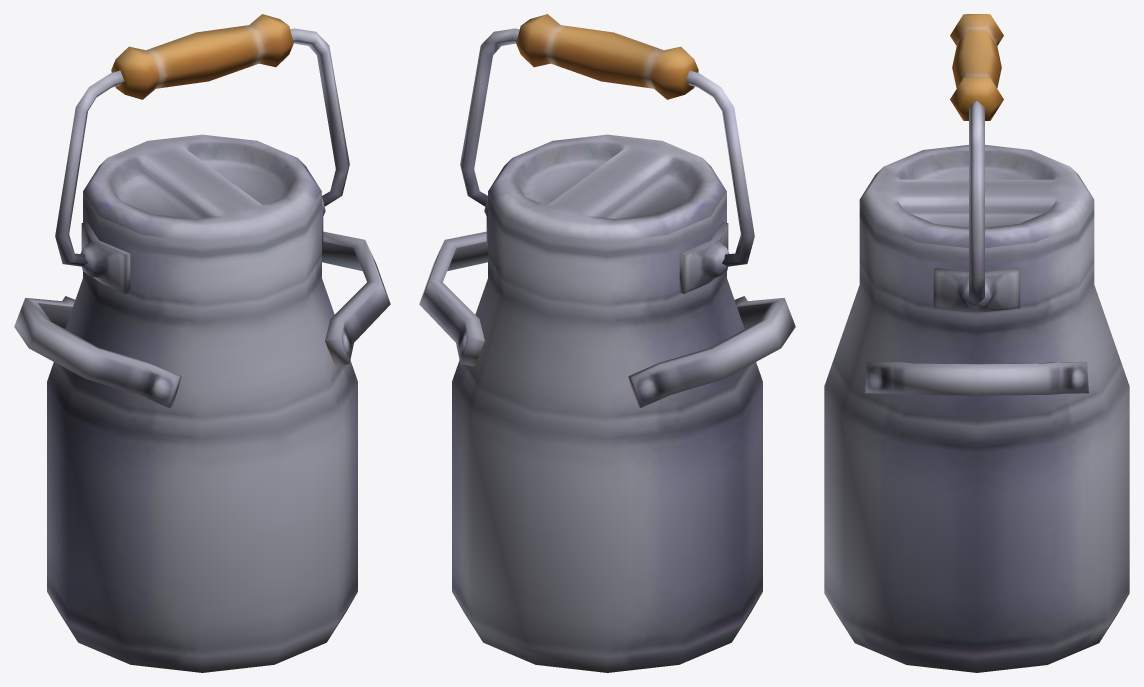
File: int_oth_milkcan.dae
The picture shows the model from 3 angles, left to right: view 1: azimuth 30°, elevation 25°; view 2: azimuth 150°, elevation 25°; view 3: azimuth 270°, elevation 25°; orthographic projection.
Parts seen in each view (by area): view 1: int_oth_milkcan; view 2: int_oth_milkcan; view 3: int_oth_milkcan.
Boxes of the visible parts, box(x1,y1,x2,y2) form: int_oth_milkcan: box(14, 14, 390, 672); int_oth_milkcan: box(419, 14, 795, 672); int_oth_milkcan: box(824, 14, 1129, 672).
Size of the model in its own units: 16.1 by 25.54 by 12.47.
Materials: 1 (1 with a texture image).
